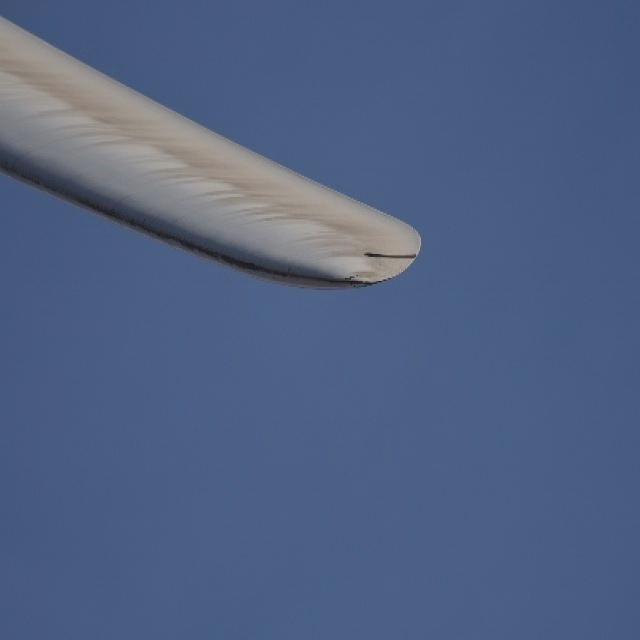Burn Mark: (362, 251, 417, 261)
Crack: (324, 272, 385, 302)
EROSION: (6, 167, 317, 296)
